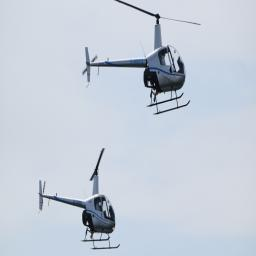helicopter: (83, 1, 202, 117), (39, 150, 124, 253)
